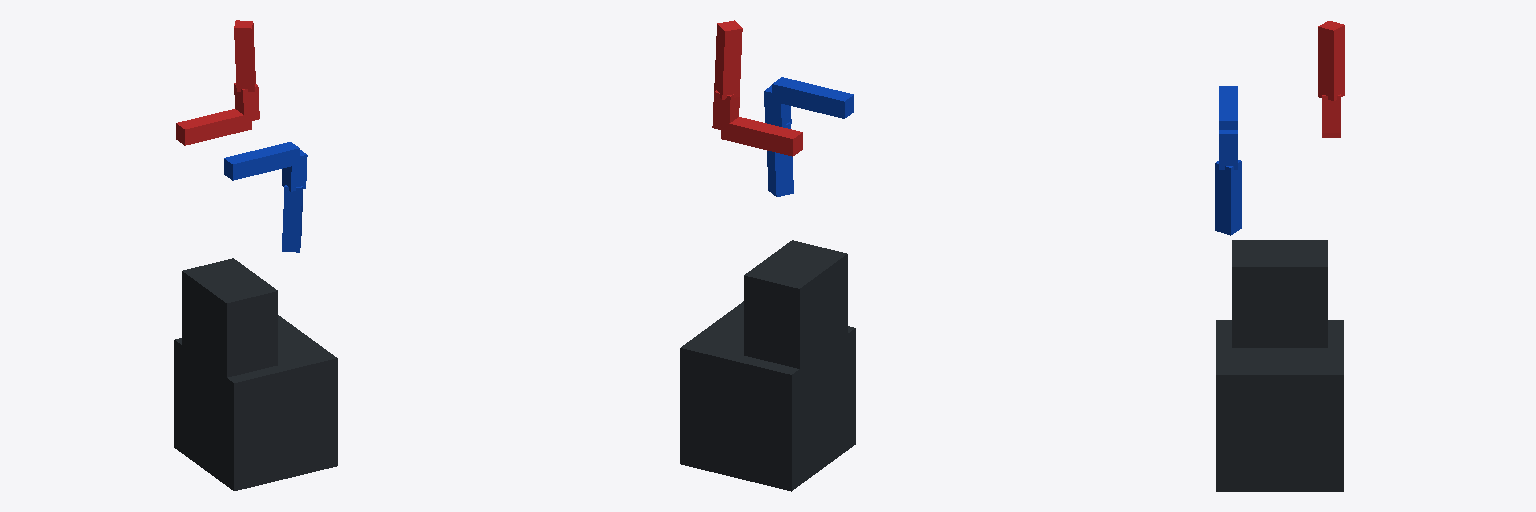
URDF robot description (agv_dual_arm):
<?xml version="1.0" ?>
<robot name="agv_dual_arm">
  <material name="dark_gray">
    <color rgba="0.2 0.22 0.24 1.0"/>
  </material>
  <material name="right_blue">
    <color rgba="0.1 0.35 0.8 1.0"/>
  </material>
  <material name="left_red">
    <color rgba="0.8 0.2 0.2 1.0"/>
  </material>
  <link name="base_link">
    <visual>
      <origin xyz="0.040000 0.000000 0.000000" rpy="0 0 0"/>
      <geometry>
        <box size="0.080000 0.080000 0.080000"/>
      </geometry>
      <material name="dark_gray"/>
    </visual>
    <collision>
      <origin xyz="0.040000 0.000000 0.000000" rpy="0 0 0"/>
      <geometry>
        <box size="0.080000 0.080000 0.080000"/>
      </geometry>
    </collision>
    <inertial>
      <mass value="0.1"/>
      <origin xyz="0.040000 0.000000 0.000000" rpy="0 0 0"/>
      <inertia ixx="0.0001" ixy="0.0" ixz="0.0" iyy="0.0001" iyz="0.0" izz="0.0001"/>
    </inertial>
  </link>
  <link name="torso_link">
    <visual>
      <origin xyz="0.020000 0.000000 0.000000" rpy="0 0 0"/>
      <geometry>
        <box size="0.040000 0.060000 0.060000"/>
      </geometry>
      <material name="dark_gray"/>
    </visual>
    <collision>
      <origin xyz="0.020000 0.000000 0.000000" rpy="0 0 0"/>
      <geometry>
        <box size="0.040000 0.060000 0.060000"/>
      </geometry>
    </collision>
    <inertial>
      <mass value="0.1"/>
      <origin xyz="0.020000 0.000000 0.000000" rpy="0 0 0"/>
      <inertia ixx="0.0001" ixy="0.0" ixz="0.0" iyy="0.0001" iyz="0.0" izz="0.0001"/>
    </inertial>
  </link>
  <joint name="base_to_torso" type="fixed">
    <parent link="base_link"/>
    <child link="torso_link"/>
    <origin xyz="0.000000 0.000000 0.065000" rpy="0 0 0"/>
  </joint>
  <link name="right_shoulder_link">
    <visual>
      <origin xyz="0.005000 0.000000 0.000000" rpy="0 0 0"/>
      <geometry>
        <box size="0.010000 0.012000 0.012000"/>
      </geometry>
      <material name="right_blue"/>
    </visual>
    <collision>
      <origin xyz="0.005000 0.000000 0.000000" rpy="0 0 0"/>
      <geometry>
        <box size="0.010000 0.012000 0.012000"/>
      </geometry>
    </collision>
    <inertial>
      <mass value="0.1"/>
      <origin xyz="0.005000 0.000000 0.000000" rpy="0 0 0"/>
      <inertia ixx="0.0001" ixy="0.0" ixz="0.0" iyy="0.0001" iyz="0.0" izz="0.0001"/>
    </inertial>
  </link>
  <joint name="right_shoulder_mount" type="fixed">
    <parent link="torso_link"/>
    <child link="right_shoulder_link"/>
    <origin xyz="0.000000 -0.032000 0.130000" rpy="0 0 0"/>
  </joint>
  <link name="right_link_1">
    <visual>
      <origin xyz="0.016000 0.000000 0.000000" rpy="0 0 0"/>
      <geometry>
        <box size="0.032000 0.012000 0.012000"/>
      </geometry>
      <material name="right_blue"/>
    </visual>
    <collision>
      <origin xyz="0.016000 0.000000 0.000000" rpy="0 0 0"/>
      <geometry>
        <box size="0.032000 0.012000 0.012000"/>
      </geometry>
    </collision>
    <inertial>
      <mass value="0.1"/>
      <origin xyz="0.016000 0.000000 0.000000" rpy="0 0 0"/>
      <inertia ixx="0.0001" ixy="0.0" ixz="0.0" iyy="0.0001" iyz="0.0" izz="0.0001"/>
    </inertial>
  </link>
  <joint name="right_joint_1" type="revolute">
    <parent link="right_shoulder_link"/>
    <child link="right_link_1"/>
    <origin xyz="0.000000 0.000000 0.000000" rpy="0 0 0"/>
    <axis xyz="0.000000 0.000000 1.000000"/>
    <limit lower="-0.785398" upper="0.785398" velocity="1.500000" effort="8.000000"/>
  </joint>
  <link name="right_link_2">
    <visual>
      <origin xyz="0.010000 0.000000 0.000000" rpy="0 0 0"/>
      <geometry>
        <box size="0.020000 0.012000 0.012000"/>
      </geometry>
      <material name="right_blue"/>
    </visual>
    <collision>
      <origin xyz="0.010000 0.000000 0.000000" rpy="0 0 0"/>
      <geometry>
        <box size="0.020000 0.012000 0.012000"/>
      </geometry>
    </collision>
    <inertial>
      <mass value="0.1"/>
      <origin xyz="0.010000 0.000000 0.000000" rpy="0 0 0"/>
      <inertia ixx="0.0001" ixy="0.0" ixz="0.0" iyy="0.0001" iyz="0.0" izz="0.0001"/>
    </inertial>
  </link>
  <joint name="right_joint_2" type="revolute">
    <parent link="right_link_1"/>
    <child link="right_link_2"/>
    <origin xyz="0.032000 0.000000 0.000000" rpy="0 0 0"/>
    <axis xyz="0.000000 1.000000 0.000000"/>
    <limit lower="-1.570796" upper="1.570796" velocity="1.500000" effort="8.000000"/>
  </joint>
  <link name="right_link_3">
    <visual>
      <origin xyz="0.012500 0.000000 0.000000" rpy="0 0 0"/>
      <geometry>
        <box size="0.025000 0.012000 0.012000"/>
      </geometry>
      <material name="right_blue"/>
    </visual>
    <collision>
      <origin xyz="0.012500 0.000000 0.000000" rpy="0 0 0"/>
      <geometry>
        <box size="0.025000 0.012000 0.012000"/>
      </geometry>
    </collision>
    <inertial>
      <mass value="0.1"/>
      <origin xyz="0.012500 0.000000 0.000000" rpy="0 0 0"/>
      <inertia ixx="0.0001" ixy="0.0" ixz="0.0" iyy="0.0001" iyz="0.0" izz="0.0001"/>
    </inertial>
  </link>
  <joint name="right_joint_3" type="revolute">
    <parent link="right_link_2"/>
    <child link="right_link_3"/>
    <origin xyz="0.020000 0.000000 0.000000" rpy="0 0 0"/>
    <axis xyz="0.000000 1.000000 0.000000"/>
    <limit lower="0.349066" upper="2.879793" velocity="1.500000" effort="8.000000"/>
  </joint>
  <link name="right_link_4">
    <visual>
      <origin xyz="0.000000 0.000000 0.000000" rpy="0 0 0"/>
      <geometry>
        <box size="0.005000 0.012000 0.012000"/>
      </geometry>
      <material name="right_blue"/>
    </visual>
    <collision>
      <origin xyz="0.000000 0.000000 0.000000" rpy="0 0 0"/>
      <geometry>
        <box size="0.005000 0.012000 0.012000"/>
      </geometry>
    </collision>
    <inertial>
      <mass value="0.1"/>
      <origin xyz="0.000000 0.000000 0.000000" rpy="0 0 0"/>
      <inertia ixx="0.0001" ixy="0.0" ixz="0.0" iyy="0.0001" iyz="0.0" izz="0.0001"/>
    </inertial>
  </link>
  <joint name="right_joint_4" type="revolute">
    <parent link="right_link_3"/>
    <child link="right_link_4"/>
    <origin xyz="0.025000 0.000000 0.000000" rpy="0 0 0"/>
    <axis xyz="1.000000 0.000000 0.000000"/>
    <limit lower="-1.658063" upper="-0.261799" velocity="1.500000" effort="8.000000"/>
  </joint>
  <link name="right_link_5">
    <visual>
      <origin xyz="0.007500 0.000000 0.000000" rpy="0 0 0"/>
      <geometry>
        <box size="0.015000 0.012000 0.012000"/>
      </geometry>
      <material name="right_blue"/>
    </visual>
    <collision>
      <origin xyz="0.007500 0.000000 0.000000" rpy="0 0 0"/>
      <geometry>
        <box size="0.015000 0.012000 0.012000"/>
      </geometry>
    </collision>
    <inertial>
      <mass value="0.1"/>
      <origin xyz="0.007500 0.000000 0.000000" rpy="0 0 0"/>
      <inertia ixx="0.0001" ixy="0.0" ixz="0.0" iyy="0.0001" iyz="0.0" izz="0.0001"/>
    </inertial>
  </link>
  <joint name="right_joint_5" type="revolute">
    <parent link="right_link_4"/>
    <child link="right_link_5"/>
    <origin xyz="0.000000 0.000000 0.000000" rpy="0 0 0"/>
    <axis xyz="0.000000 1.000000 0.000000"/>
    <limit lower="-1.570796" upper="1.570796" velocity="1.500000" effort="8.000000"/>
  </joint>
  <link name="right_link_6">
    <visual>
      <origin xyz="0.010000 0.000000 0.000000" rpy="0 0 0"/>
      <geometry>
        <box size="0.020000 0.012000 0.012000"/>
      </geometry>
      <material name="right_blue"/>
    </visual>
    <collision>
      <origin xyz="0.010000 0.000000 0.000000" rpy="0 0 0"/>
      <geometry>
        <box size="0.020000 0.012000 0.012000"/>
      </geometry>
    </collision>
    <inertial>
      <mass value="0.1"/>
      <origin xyz="0.010000 0.000000 0.000000" rpy="0 0 0"/>
      <inertia ixx="0.0001" ixy="0.0" ixz="0.0" iyy="0.0001" iyz="0.0" izz="0.0001"/>
    </inertial>
  </link>
  <joint name="right_joint_6" type="revolute">
    <parent link="right_link_5"/>
    <child link="right_link_6"/>
    <origin xyz="0.015000 0.000000 0.000000" rpy="0 0 0"/>
    <axis xyz="1.000000 0.000000 0.000000"/>
    <limit lower="0.000000" upper="1.570796" velocity="1.500000" effort="8.000000"/>
  </joint>
  <link name="right_tool0">
    <visual>
      <origin xyz="0.005000 0.000000 0.000000" rpy="0 0 0"/>
      <geometry>
        <box size="0.010000 0.012000 0.012000"/>
      </geometry>
      <material name="right_blue"/>
    </visual>
    <collision>
      <origin xyz="0.005000 0.000000 0.000000" rpy="0 0 0"/>
      <geometry>
        <box size="0.010000 0.012000 0.012000"/>
      </geometry>
    </collision>
    <inertial>
      <mass value="0.1"/>
      <origin xyz="0.005000 0.000000 0.000000" rpy="0 0 0"/>
      <inertia ixx="0.0001" ixy="0.0" ixz="0.0" iyy="0.0001" iyz="0.0" izz="0.0001"/>
    </inertial>
  </link>
  <joint name="right_tool0_fixed" type="fixed">
    <parent link="right_link_6"/>
    <child link="right_tool0"/>
    <origin xyz="0.020000 0.000000 0.000000" rpy="0 0 0"/>
  </joint>
  <link name="left_shoulder_link">
    <visual>
      <origin xyz="0.005000 0.000000 0.000000" rpy="0 0 0"/>
      <geometry>
        <box size="0.010000 0.012000 0.012000"/>
      </geometry>
      <material name="left_red"/>
    </visual>
    <collision>
      <origin xyz="0.005000 0.000000 0.000000" rpy="0 0 0"/>
      <geometry>
        <box size="0.010000 0.012000 0.012000"/>
      </geometry>
    </collision>
    <inertial>
      <mass value="0.1"/>
      <origin xyz="0.005000 0.000000 0.000000" rpy="0 0 0"/>
      <inertia ixx="0.0001" ixy="0.0" ixz="0.0" iyy="0.0001" iyz="0.0" izz="0.0001"/>
    </inertial>
  </link>
  <joint name="left_shoulder_mount" type="fixed">
    <parent link="torso_link"/>
    <child link="left_shoulder_link"/>
    <origin xyz="0.000000 0.032000 0.130000" rpy="0 0 0"/>
  </joint>
  <link name="left_link_1">
    <visual>
      <origin xyz="0.016000 0.000000 0.000000" rpy="0 0 0"/>
      <geometry>
        <box size="0.032000 0.012000 0.012000"/>
      </geometry>
      <material name="left_red"/>
    </visual>
    <collision>
      <origin xyz="0.016000 0.000000 0.000000" rpy="0 0 0"/>
      <geometry>
        <box size="0.032000 0.012000 0.012000"/>
      </geometry>
    </collision>
    <inertial>
      <mass value="0.1"/>
      <origin xyz="0.016000 0.000000 0.000000" rpy="0 0 0"/>
      <inertia ixx="0.0001" ixy="0.0" ixz="0.0" iyy="0.0001" iyz="0.0" izz="0.0001"/>
    </inertial>
  </link>
  <joint name="left_joint_1" type="revolute">
    <parent link="left_shoulder_link"/>
    <child link="left_link_1"/>
    <origin xyz="0.000000 0.000000 0.000000" rpy="0 0 0"/>
    <axis xyz="0.000000 0.000000 1.000000"/>
    <limit lower="-0.785398" upper="0.785398" velocity="1.500000" effort="8.000000"/>
  </joint>
  <link name="left_link_2">
    <visual>
      <origin xyz="0.010000 0.000000 0.000000" rpy="0 0 0"/>
      <geometry>
        <box size="0.020000 0.012000 0.012000"/>
      </geometry>
      <material name="left_red"/>
    </visual>
    <collision>
      <origin xyz="0.010000 0.000000 0.000000" rpy="0 0 0"/>
      <geometry>
        <box size="0.020000 0.012000 0.012000"/>
      </geometry>
    </collision>
    <inertial>
      <mass value="0.1"/>
      <origin xyz="0.010000 0.000000 0.000000" rpy="0 0 0"/>
      <inertia ixx="0.0001" ixy="0.0" ixz="0.0" iyy="0.0001" iyz="0.0" izz="0.0001"/>
    </inertial>
  </link>
  <joint name="left_joint_2" type="revolute">
    <parent link="left_link_1"/>
    <child link="left_link_2"/>
    <origin xyz="0.032000 0.000000 0.000000" rpy="0 0 0"/>
    <axis xyz="0.000000 1.000000 0.000000"/>
    <limit lower="-1.570796" upper="1.570796" velocity="1.500000" effort="8.000000"/>
  </joint>
  <link name="left_link_3">
    <visual>
      <origin xyz="0.012500 0.000000 0.000000" rpy="0 0 0"/>
      <geometry>
        <box size="0.025000 0.012000 0.012000"/>
      </geometry>
      <material name="left_red"/>
    </visual>
    <collision>
      <origin xyz="0.012500 0.000000 0.000000" rpy="0 0 0"/>
      <geometry>
        <box size="0.025000 0.012000 0.012000"/>
      </geometry>
    </collision>
    <inertial>
      <mass value="0.1"/>
      <origin xyz="0.012500 0.000000 0.000000" rpy="0 0 0"/>
      <inertia ixx="0.0001" ixy="0.0" ixz="0.0" iyy="0.0001" iyz="0.0" izz="0.0001"/>
    </inertial>
  </link>
  <joint name="left_joint_3" type="revolute">
    <parent link="left_link_2"/>
    <child link="left_link_3"/>
    <origin xyz="0.020000 0.000000 0.000000" rpy="0 0 0"/>
    <axis xyz="0.000000 1.000000 0.000000"/>
    <limit lower="-2.879793" upper="-0.349066" velocity="1.500000" effort="8.000000"/>
  </joint>
  <link name="left_link_4">
    <visual>
      <origin xyz="0.000000 0.000000 0.000000" rpy="0 0 0"/>
      <geometry>
        <box size="0.005000 0.012000 0.012000"/>
      </geometry>
      <material name="left_red"/>
    </visual>
    <collision>
      <origin xyz="0.000000 0.000000 0.000000" rpy="0 0 0"/>
      <geometry>
        <box size="0.005000 0.012000 0.012000"/>
      </geometry>
    </collision>
    <inertial>
      <mass value="0.1"/>
      <origin xyz="0.000000 0.000000 0.000000" rpy="0 0 0"/>
      <inertia ixx="0.0001" ixy="0.0" ixz="0.0" iyy="0.0001" iyz="0.0" izz="0.0001"/>
    </inertial>
  </link>
  <joint name="left_joint_4" type="revolute">
    <parent link="left_link_3"/>
    <child link="left_link_4"/>
    <origin xyz="0.025000 0.000000 0.000000" rpy="0 0 0"/>
    <axis xyz="1.000000 0.000000 0.000000"/>
    <limit lower="0.261799" upper="1.658063" velocity="1.500000" effort="8.000000"/>
  </joint>
  <link name="left_link_5">
    <visual>
      <origin xyz="0.007500 0.000000 0.000000" rpy="0 0 0"/>
      <geometry>
        <box size="0.015000 0.012000 0.012000"/>
      </geometry>
      <material name="left_red"/>
    </visual>
    <collision>
      <origin xyz="0.007500 0.000000 0.000000" rpy="0 0 0"/>
      <geometry>
        <box size="0.015000 0.012000 0.012000"/>
      </geometry>
    </collision>
    <inertial>
      <mass value="0.1"/>
      <origin xyz="0.007500 0.000000 0.000000" rpy="0 0 0"/>
      <inertia ixx="0.0001" ixy="0.0" ixz="0.0" iyy="0.0001" iyz="0.0" izz="0.0001"/>
    </inertial>
  </link>
  <joint name="left_joint_5" type="revolute">
    <parent link="left_link_4"/>
    <child link="left_link_5"/>
    <origin xyz="0.000000 0.000000 0.000000" rpy="0 0 0"/>
    <axis xyz="0.000000 1.000000 0.000000"/>
    <limit lower="-1.570796" upper="1.570796" velocity="1.500000" effort="8.000000"/>
  </joint>
  <link name="left_link_6">
    <visual>
      <origin xyz="0.010000 0.000000 0.000000" rpy="0 0 0"/>
      <geometry>
        <box size="0.020000 0.012000 0.012000"/>
      </geometry>
      <material name="left_red"/>
    </visual>
    <collision>
      <origin xyz="0.010000 0.000000 0.000000" rpy="0 0 0"/>
      <geometry>
        <box size="0.020000 0.012000 0.012000"/>
      </geometry>
    </collision>
    <inertial>
      <mass value="0.1"/>
      <origin xyz="0.010000 0.000000 0.000000" rpy="0 0 0"/>
      <inertia ixx="0.0001" ixy="0.0" ixz="0.0" iyy="0.0001" iyz="0.0" izz="0.0001"/>
    </inertial>
  </link>
  <joint name="left_joint_6" type="revolute">
    <parent link="left_link_5"/>
    <child link="left_link_6"/>
    <origin xyz="0.015000 0.000000 0.000000" rpy="0 0 0"/>
    <axis xyz="-1.000000 0.000000 0.000000"/>
    <limit lower="0.000000" upper="1.570796" velocity="1.500000" effort="8.000000"/>
  </joint>
  <link name="left_tool0">
    <visual>
      <origin xyz="0.005000 0.000000 0.000000" rpy="0 0 0"/>
      <geometry>
        <box size="0.010000 0.012000 0.012000"/>
      </geometry>
      <material name="left_red"/>
    </visual>
    <collision>
      <origin xyz="0.005000 0.000000 0.000000" rpy="0 0 0"/>
      <geometry>
        <box size="0.010000 0.012000 0.012000"/>
      </geometry>
    </collision>
    <inertial>
      <mass value="0.1"/>
      <origin xyz="0.005000 0.000000 0.000000" rpy="0 0 0"/>
      <inertia ixx="0.0001" ixy="0.0" ixz="0.0" iyy="0.0001" iyz="0.0" izz="0.0001"/>
    </inertial>
  </link>
  <joint name="left_tool0_fixed" type="fixed">
    <parent link="left_link_6"/>
    <child link="left_tool0"/>
    <origin xyz="0.020000 0.000000 0.000000" rpy="0 0 0"/>
  </joint>
</robot>

--- What the picture shows (computed from the rendered views, not written in the file) ---
The picture shows the robot from 3 angles, left to right: view 1: azimuth 30°, elevation 25°; view 2: azimuth 150°, elevation 25°; view 3: azimuth 270°, elevation 25°; orthographic projection.
Model agv_dual_arm with 18 links and 17 joints (12 revolute, 5 fixed), rooted at base_link, posed all joints at 0 but 4 set to mid-range because 0 is outside their limits (right_joint_3 = 1.61, right_joint_4 = -0.9599, left_joint_3 = -1.61, left_joint_4 = 0.9599).
Links seen in each view (by area): view 1: base_link, torso_link, left_link_1, right_link_1, left_link_3, right_link_2, right_link_3, left_link_2, left_link_6; view 2: base_link, torso_link, right_link_1, left_link_1, right_link_2, left_link_6, left_link_3, right_link_3, right_link_6, left_link_2, left_tool0; view 3: base_link, torso_link, left_link_6, right_link_6, right_link_3, left_link_3, right_link_5, left_tool0, left_link_5.
Link boxes in pixels (box(x1,y1,x2,y2)): base_link: box(174, 315, 337, 490); torso_link: box(182, 258, 277, 384); left_link_1: box(178, 113, 225, 145); right_link_1: box(226, 148, 273, 178); left_link_3: box(234, 83, 259, 121); right_link_2: box(266, 142, 299, 170); right_link_3: box(282, 150, 307, 191); left_link_2: box(218, 109, 251, 135); left_link_6: box(235, 36, 254, 68); base_link: box(680, 301, 855, 491); torso_link: box(744, 240, 847, 375); right_link_1: box(800, 84, 852, 117); left_link_1: box(749, 121, 799, 156); right_link_2: box(772, 77, 808, 107); left_link_6: box(715, 38, 741, 74); left_link_3: box(712, 90, 739, 131); right_link_3: box(764, 85, 791, 127); right_link_6: box(767, 151, 792, 182); left_link_2: box(721, 117, 757, 145); left_tool0: box(716, 20, 742, 45); base_link: box(1216, 320, 1343, 491); torso_link: box(1232, 240, 1327, 347); left_link_6: box(1318, 40, 1344, 74); right_link_6: box(1215, 186, 1241, 220); right_link_3: box(1219, 130, 1237, 169); left_link_3: box(1322, 94, 1340, 132); right_link_5: box(1215, 165, 1241, 192); left_tool0: box(1318, 21, 1344, 45); left_link_5: box(1318, 70, 1344, 95).
Bounding box of the posed robot: 0.08 × 0.0807 × 0.3053 m (x, y, z).
Geometry: primitives only (box / cylinder / sphere), no mesh files.
